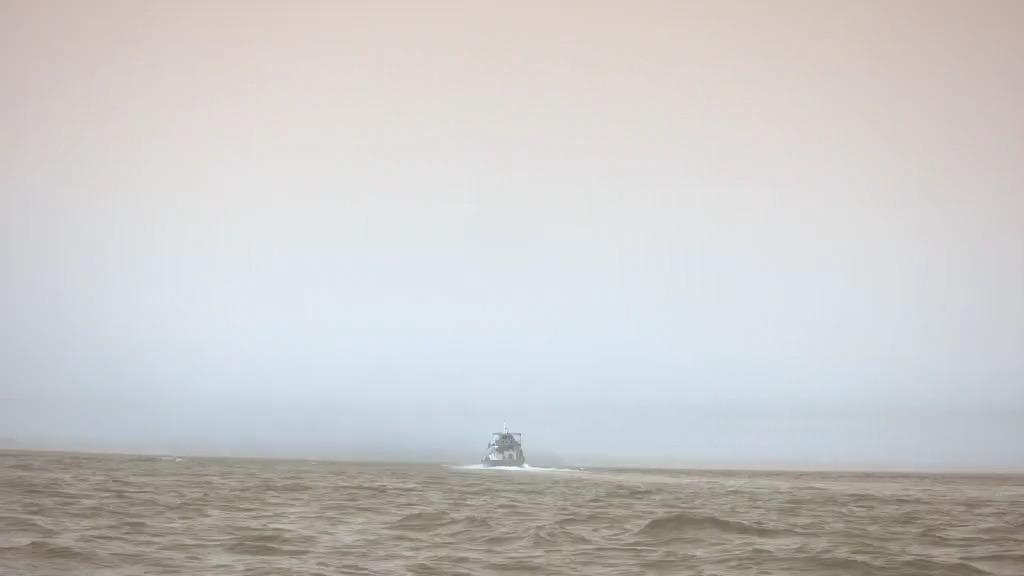PassengerShip: (480, 420, 530, 468)
